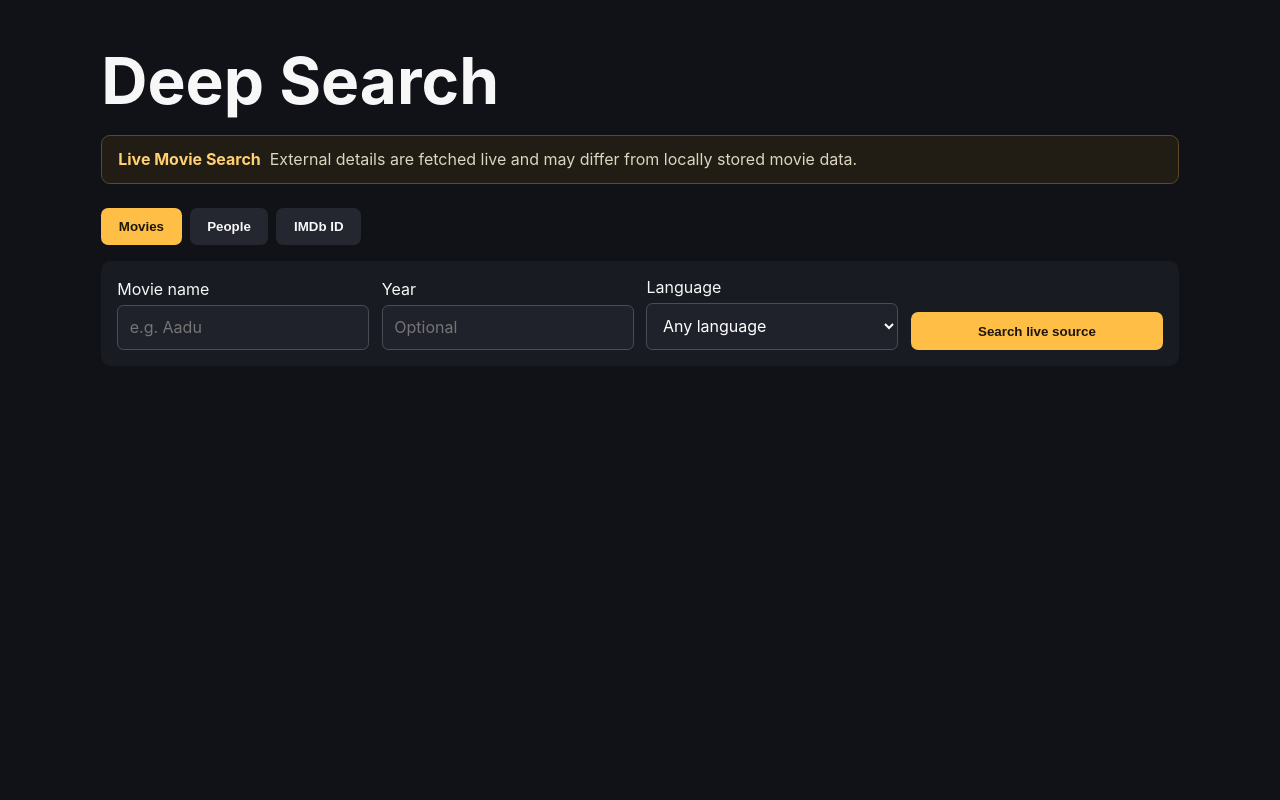
searches live movies with year/language and shows the external ID neutrally
This screenshot has width=1280, height=800.
Type "Aadu" into the field labelled "Movie name". click: (243, 327)
box: [117,305,369,350]
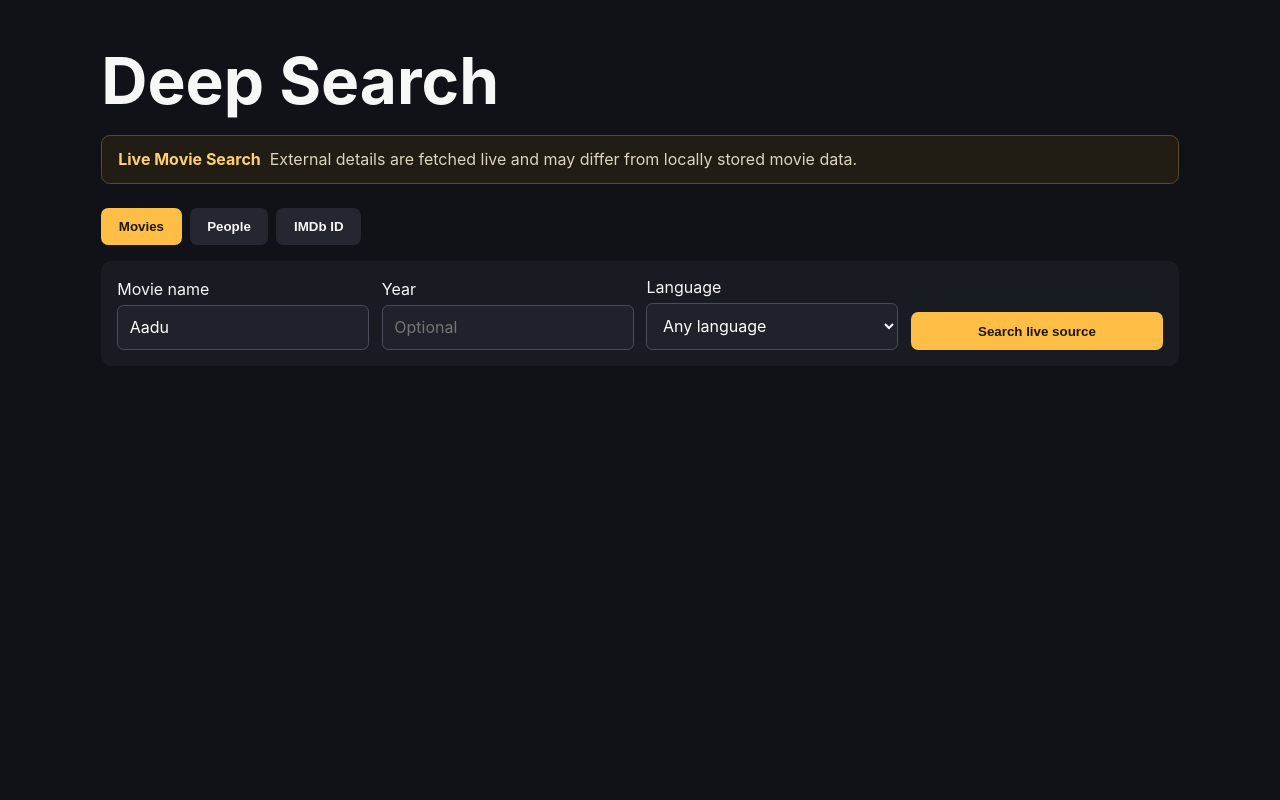
Type "2026" into the number field labelled "Year". click: (508, 327)
box: [382,305,634,350]
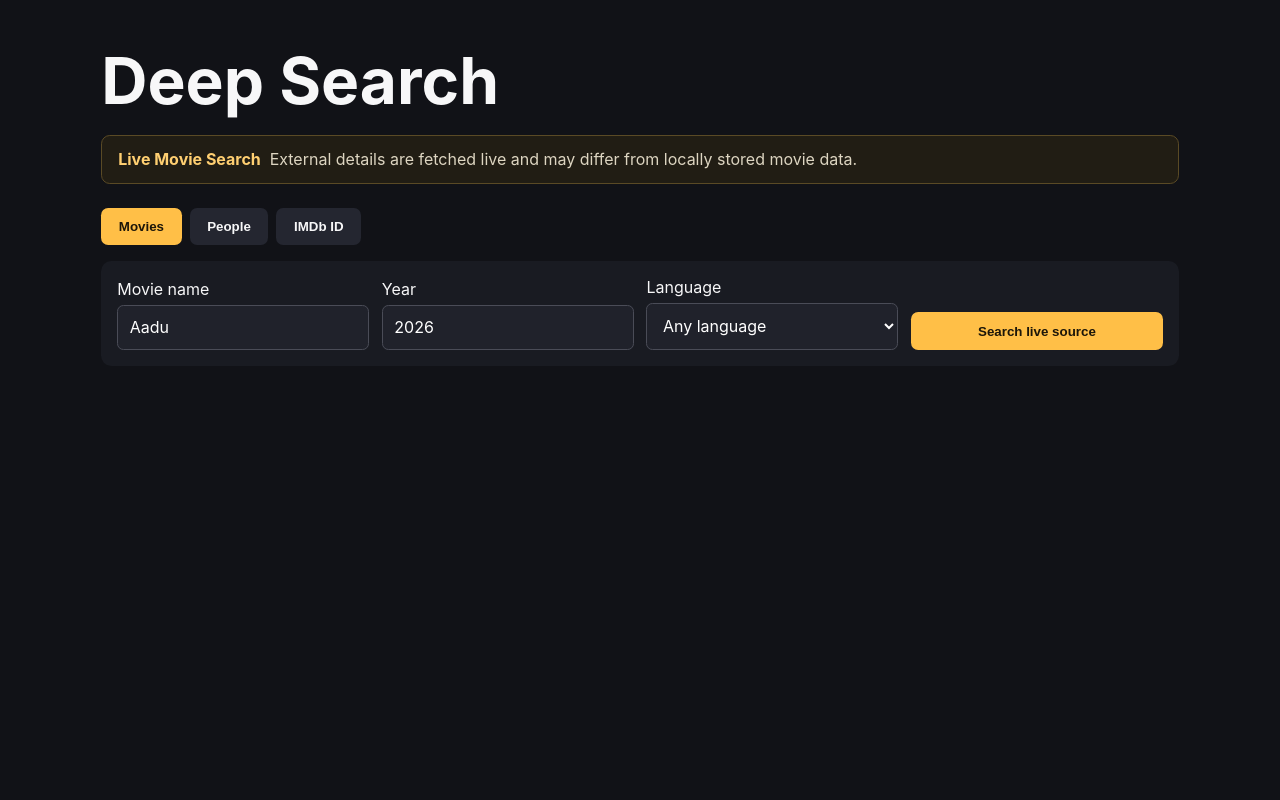
Select "Malayalam" in the dropdown labelled "Language". click: (772, 326)
box: [646,303,898,350]
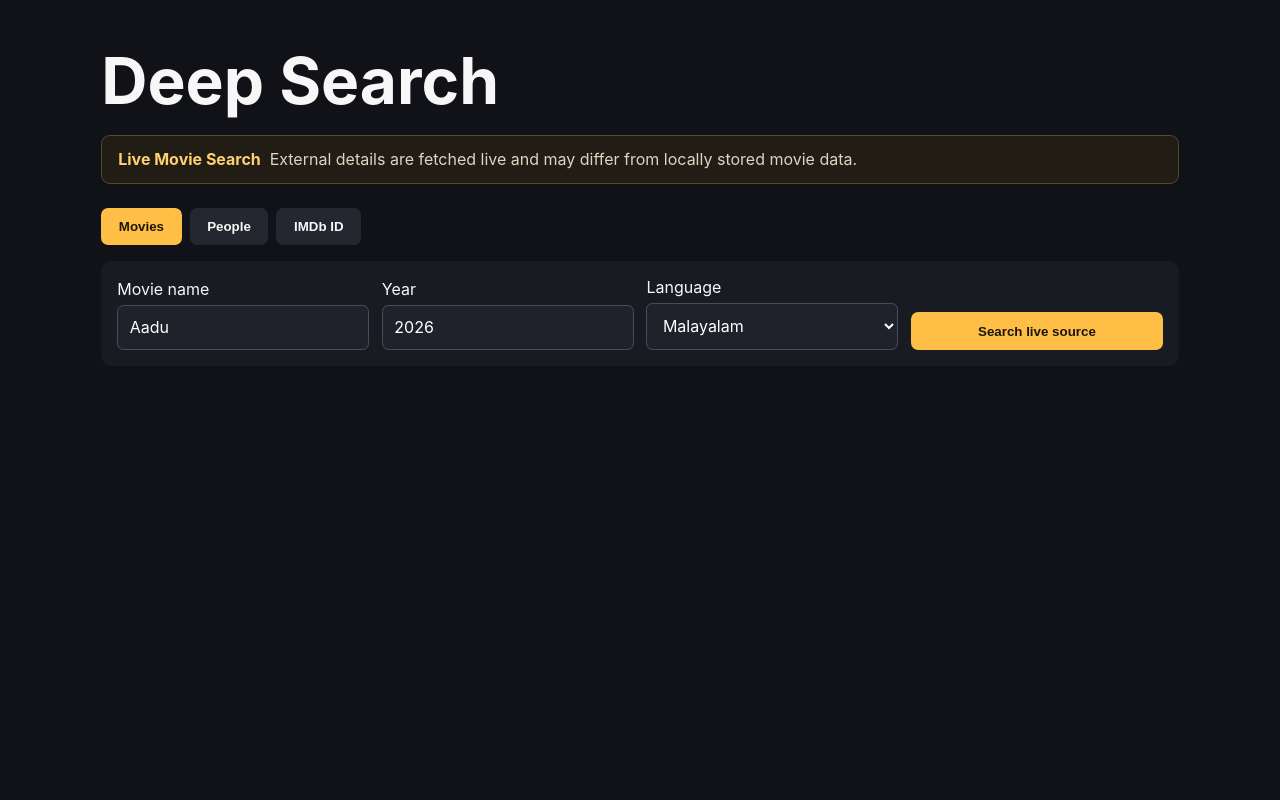
Click the button "Search live source". click: (1037, 331)
box: [911,312,1163,350]
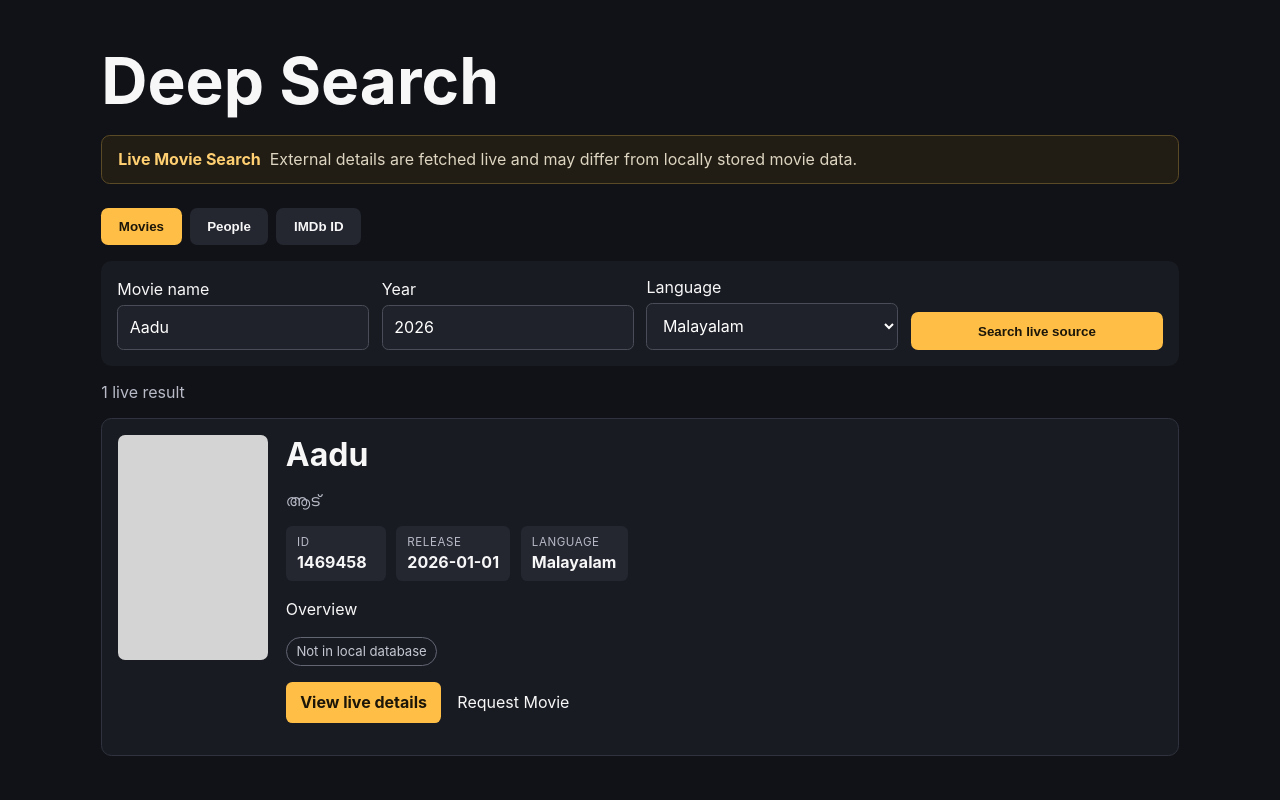
Expected: the heading "Aadu" is shown, [286,435,368,474]
Expected: the text "1469458" is shown, [297,552,375,572]
Expected: the text "Malayalam" is shown 2 times
